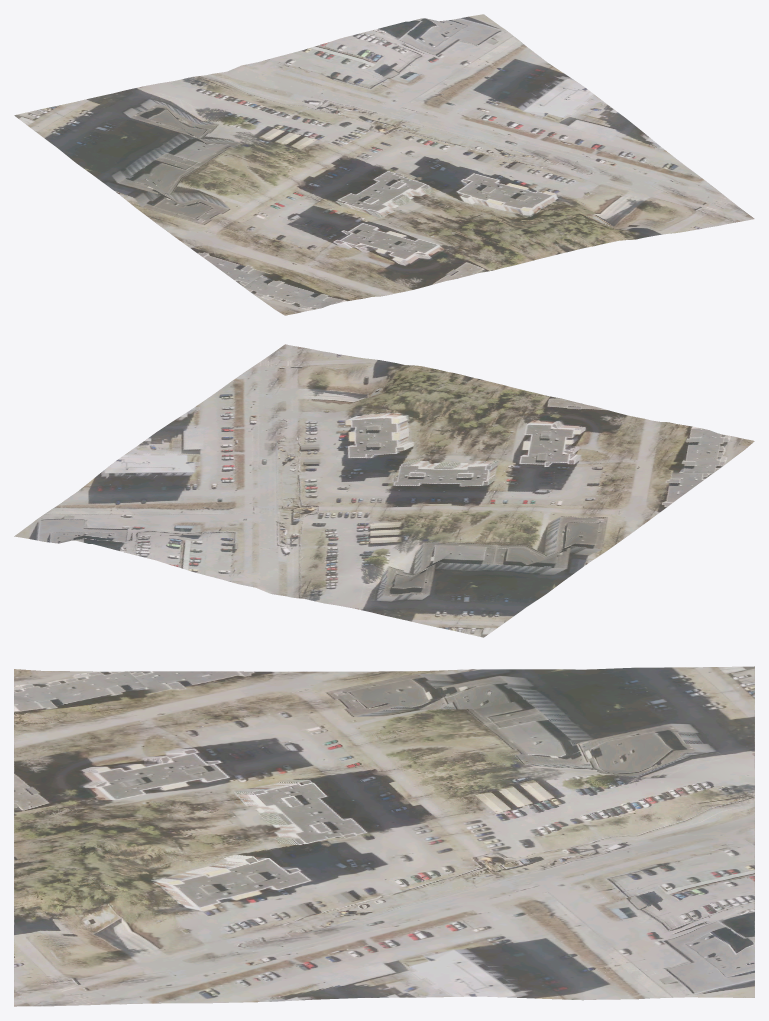
Rendered from CM_Terrain_24492097_6815084.fbx.
The picture shows the model from 3 angles, top to bottom: view 1: azimuth 30°, elevation 25°; view 2: azimuth 150°, elevation 25°; view 3: azimuth 270°, elevation 25°; orthographic projection. The views are drawn at different scales.
Visible parts, largest first — view 1: CM_Terrain_24492097_6815084_LOD0; view 2: CM_Terrain_24492097_6815084_LOD0; view 3: CM_Terrain_24492097_6815084_LOD0.
Boxes of the visible parts, x1,y1,x2,y2 form: CM_Terrain_24492097_6815084_LOD0: (14,14,754,315); CM_Terrain_24492097_6815084_LOD0: (14,344,754,637); CM_Terrain_24492097_6815084_LOD0: (14,666,754,1006).
Size of what is drawn, in the model's own units: 205 by 9.24 by 205.
